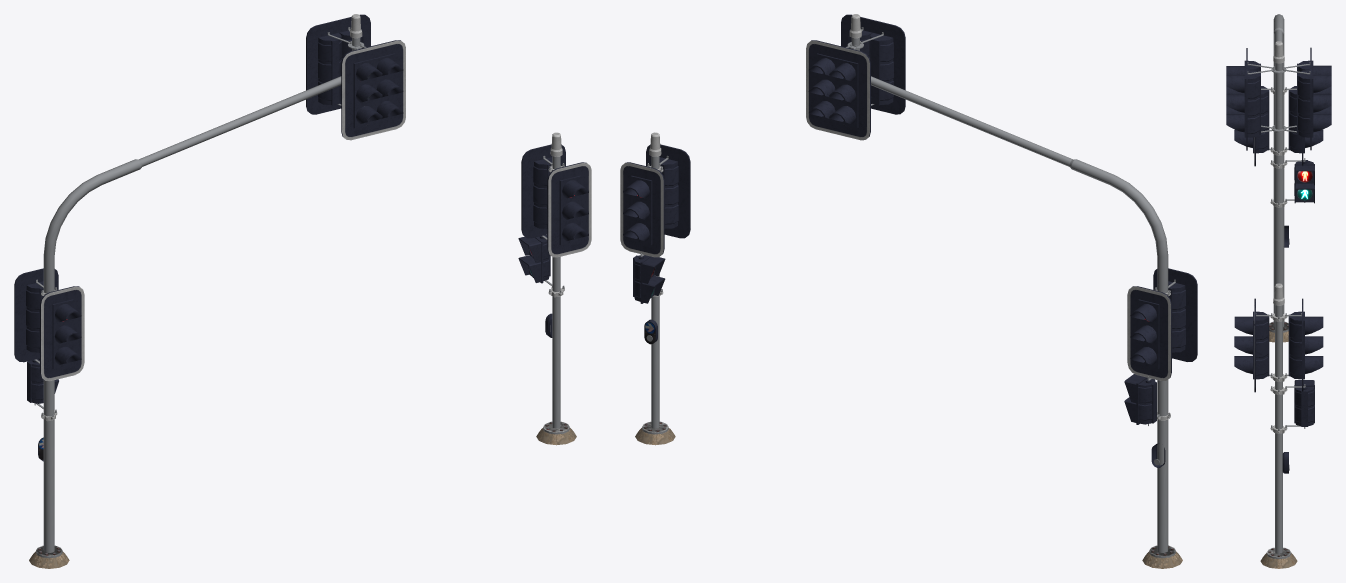
3 views of the same model, side by side, from view 1: azimuth 30°, elevation 25°; view 2: azimuth 150°, elevation 25°; view 3: azimuth 270°, elevation 25° (orthographic). The views are drawn at different scales.
Parts seen in each view (by area): view 1: pole_suspended_7, traffic_light_head_6AL_2, traffic_light_head_3A.001_9, traffic_light_head_3A_0, traffic_light_head_6AR_10, pole_small_1, traffic_light_head_3A.002_8, traffic_light_head_3A.003_11, ped_light_5, ped_light.001_3; view 2: pole_suspended_7, traffic_light_head_6AR_10, traffic_light_head_3A.002_8, traffic_light_head_3A.003_11, traffic_light_head_6AL_2, traffic_light_head_3A.001_9, traffic_light_head_3A_0, pole_small_1, ped_light.001_3, ped_light_5; view 3: pole_suspended_7, pole_small_1, traffic_light_head_6AR_10, traffic_light_head_6AL_2, traffic_light_head_3A.001_9, traffic_light_head_3A.002_8, traffic_light_head_3A_0, traffic_light_head_3A.003_11, ped_light_5, ped_light.001_3.
Part boxes in pixels (x1,y1,x2,y2): pole_suspended_7: (29, 14, 364, 568); traffic_light_head_6AL_2: (341, 40, 405, 140); traffic_light_head_3A.001_9: (547, 162, 591, 257); traffic_light_head_3A_0: (40, 286, 84, 381); traffic_light_head_6AR_10: (306, 14, 370, 114); pole_small_1: (536, 132, 576, 445); traffic_light_head_3A.002_8: (521, 144, 565, 238); traffic_light_head_3A.003_11: (14, 268, 58, 362); ped_light_5: (518, 235, 550, 283); ped_light.001_3: (27, 358, 58, 405); pole_suspended_7: (847, 14, 1182, 568); traffic_light_head_6AR_10: (806, 40, 870, 140); traffic_light_head_3A.002_8: (620, 162, 664, 257); traffic_light_head_3A.003_11: (1127, 286, 1171, 381); traffic_light_head_6AL_2: (841, 14, 905, 114); traffic_light_head_3A.001_9: (646, 144, 690, 238); traffic_light_head_3A_0: (1153, 268, 1197, 361); pole_small_1: (635, 132, 675, 445); ped_light.001_3: (1124, 374, 1156, 425); ped_light_5: (633, 253, 665, 303); pole_suspended_7: (1269, 14, 1289, 342); pole_small_1: (1260, 283, 1297, 568); traffic_light_head_6AR_10: (1282, 47, 1331, 150); traffic_light_head_6AL_2: (1226, 48, 1275, 150); traffic_light_head_3A.001_9: (1234, 298, 1272, 392); traffic_light_head_3A.002_8: (1285, 298, 1323, 392); traffic_light_head_3A_0: (1234, 86, 1272, 166); traffic_light_head_3A.003_11: (1285, 86, 1323, 166); ped_light_5: (1294, 380, 1314, 428); ped_light.001_3: (1294, 158, 1314, 203).
Size of the model in its own units: 40.7 by 33.19 by 7.39.
1 material, 1 textured.
